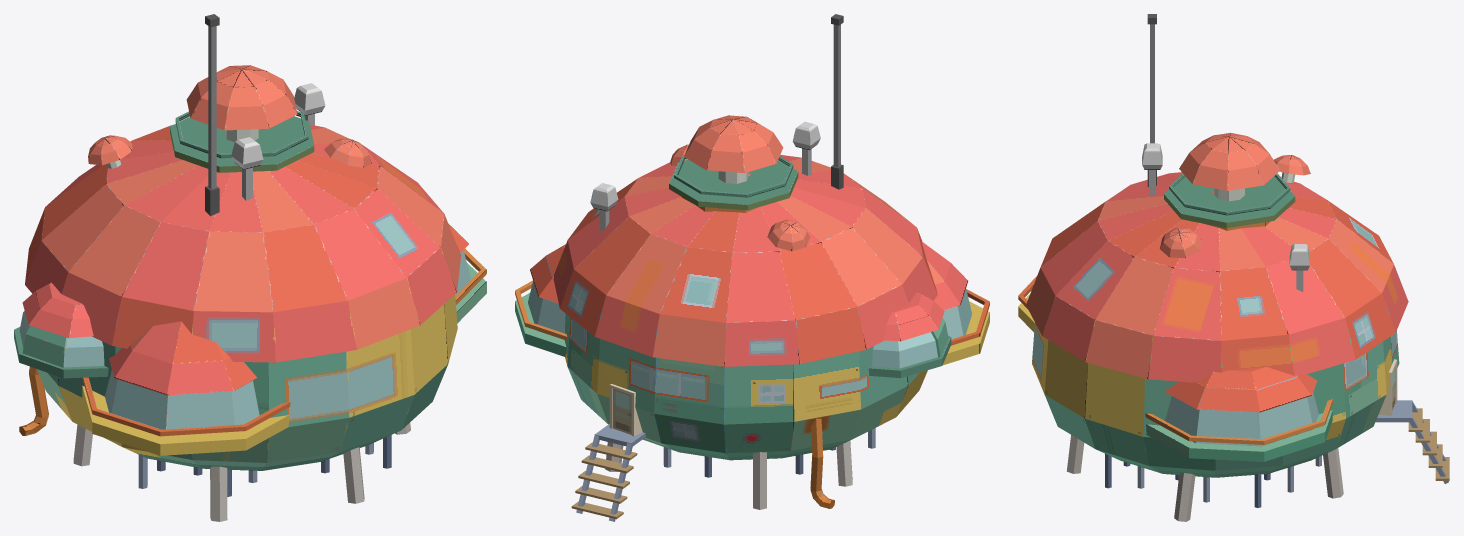
The model's file is F.ber_house_8.gltf.
The picture shows the model from 3 angles, left to right: view 1: azimuth 30°, elevation 25°; view 2: azimuth 150°, elevation 25°; view 3: azimuth 270°, elevation 25°; orthographic projection. The views are drawn at different scales.
Parts seen in each view (by area): view 1: cuboid; view 2: cuboid; view 3: cuboid.
Part boxes in pixels (x1=…): cuboid: x1=14, y1=14, x2=486, y2=521; cuboid: x1=515, y1=14, x2=989, y2=521; cuboid: x1=1018, y1=14, x2=1449, y2=521.
Bounding box in the file's own units: 12.37 × 12.26 × 11.53.
2 materials, 2 textured.
